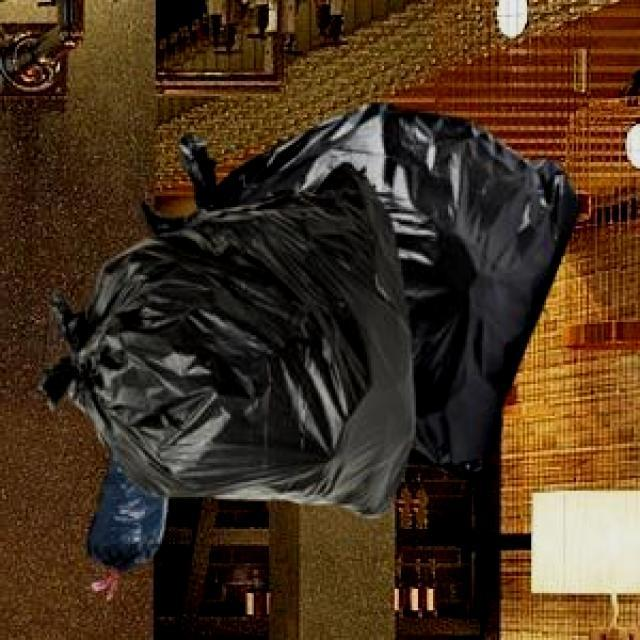Trashbag: (37, 154, 420, 520), (84, 448, 179, 574)
